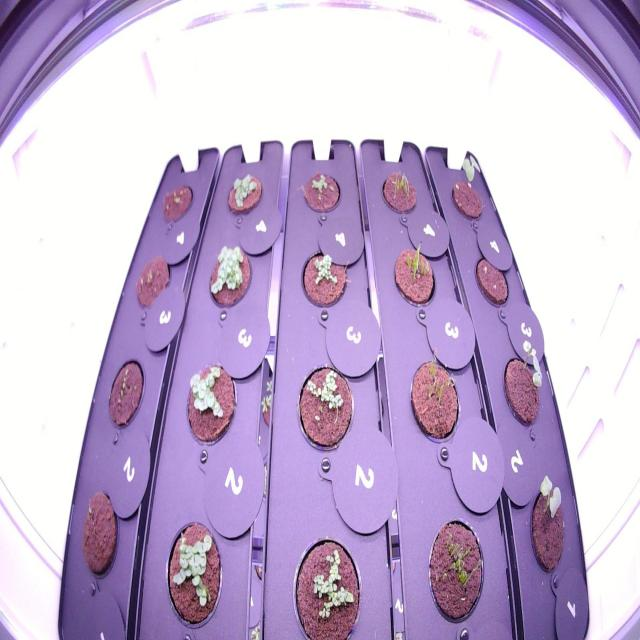germination: (156, 510, 228, 634), (287, 526, 365, 638), (423, 510, 490, 626), (290, 355, 358, 457), (402, 344, 463, 451), (179, 352, 239, 454), (522, 468, 571, 586), (500, 332, 549, 434), (97, 349, 149, 438), (296, 242, 352, 313), (390, 235, 440, 314), (206, 239, 256, 318), (126, 246, 177, 318), (445, 148, 490, 228), (297, 166, 344, 220), (375, 166, 422, 220), (157, 174, 200, 230), (222, 167, 266, 221)
pod: (78, 484, 124, 586), (471, 249, 514, 312)
